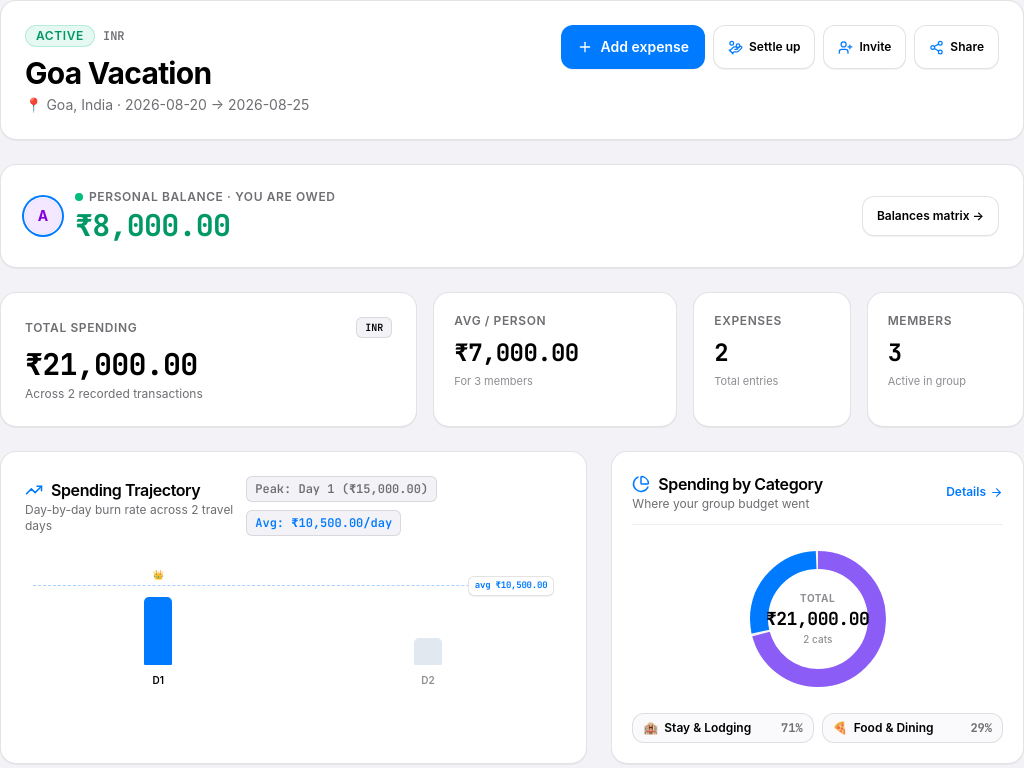
Empirical Challenge: Trip Overview Hub Navigation & Modals › 2. Invite Traveler Modal Interactive Triggers › closes invite modal when Close button, X button, or Escape key is pressed
Click the button with aria-label "Invite traveler" at (865, 47), box [824,25,906,69]
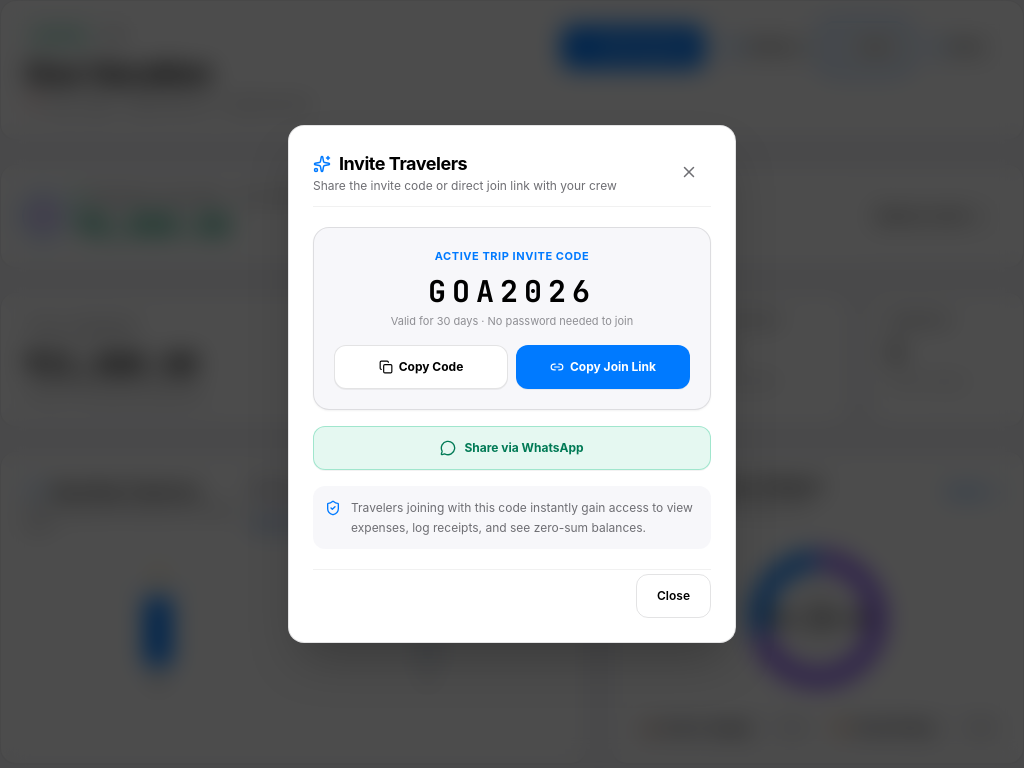
Click the button named "Close invite modal" at (689, 172), box [667,150,711,194]
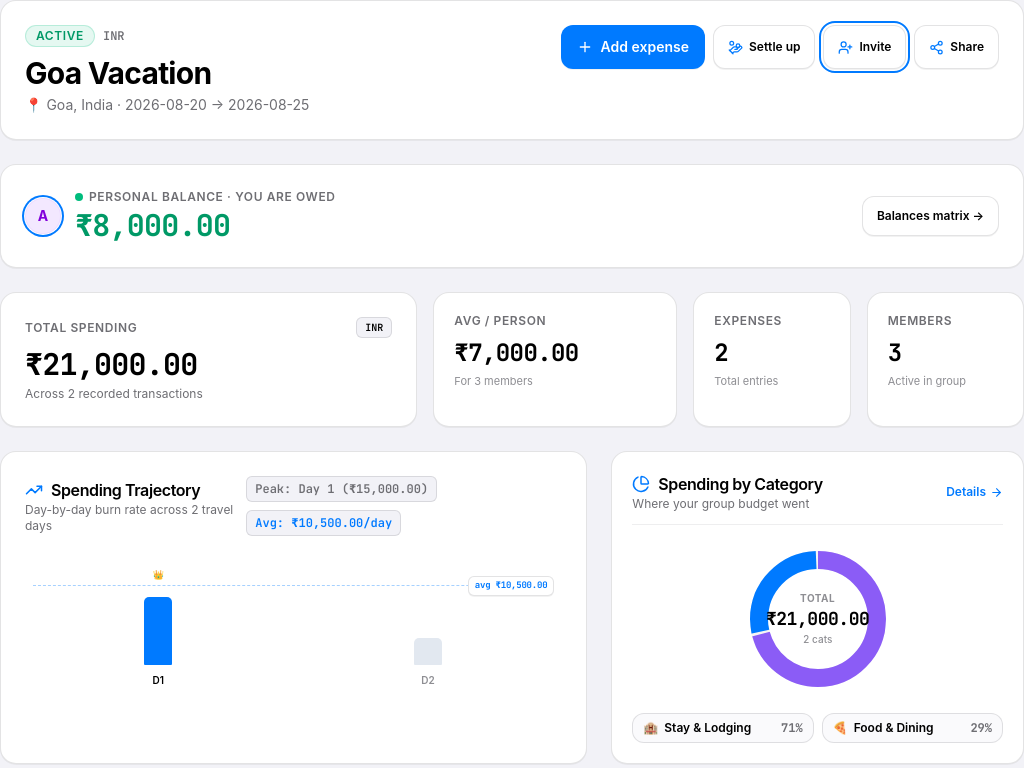
Expected: the heading "Invite Travelers" is gone
